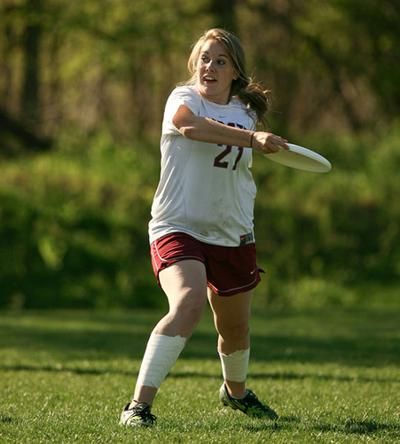person: (118, 27, 293, 430)
